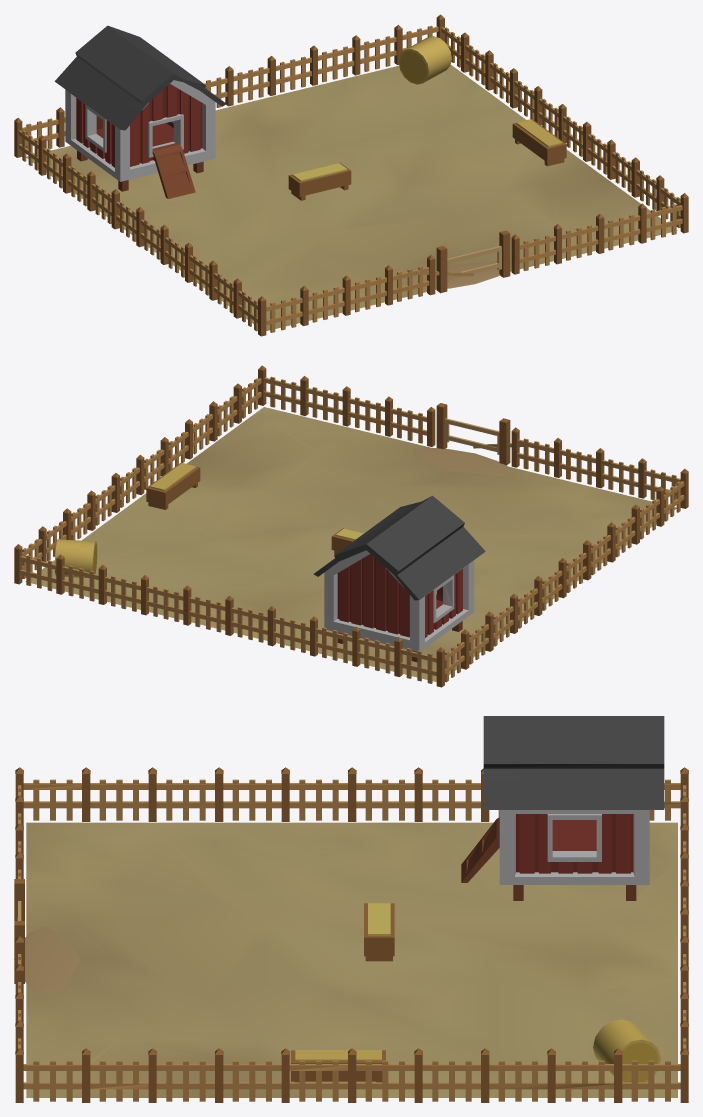
The model's file is coop-g2.glb.
3 views of the same model, one above another, from view 1: azimuth 30°, elevation 25°; view 2: azimuth 150°, elevation 25°; view 3: azimuth 270°, elevation 25° (orthographic). The views are drawn at different scales.
Visible parts, largest first — view 1: home-coop-g2, home-coop-g2-far; view 2: home-coop-g2, home-coop-g2-far; view 3: home-coop-g2-far, home-coop-g2.
Part boxes in pixels (left/top/right/bottom): home-coop-g2: left=14, top=14, right=688, bottom=336; home-coop-g2-far: left=14, top=15, right=688, bottom=335; home-coop-g2: left=14, top=365, right=688, bottom=687; home-coop-g2-far: left=14, top=366, right=688, bottom=686; home-coop-g2-far: left=14, top=716, right=688, bottom=1102; home-coop-g2: left=15, top=742, right=688, bottom=1101.
Size of the model in its own units: 9.93 by 2.58 by 9.95.
